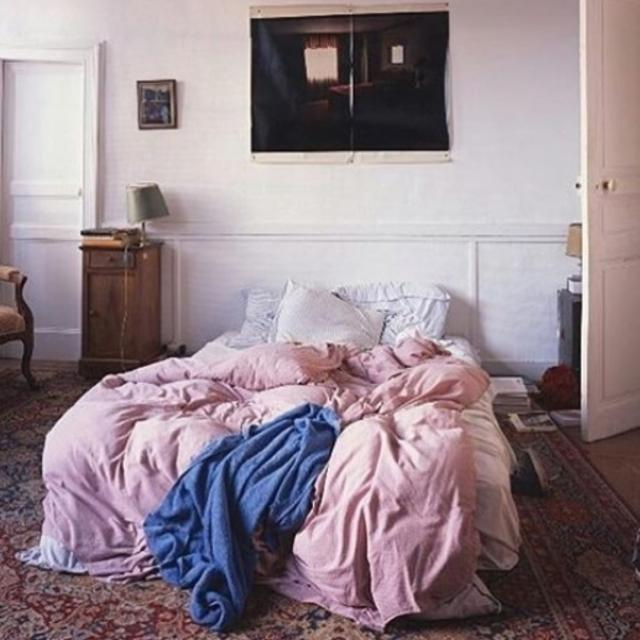bed: (42, 275, 520, 610)
